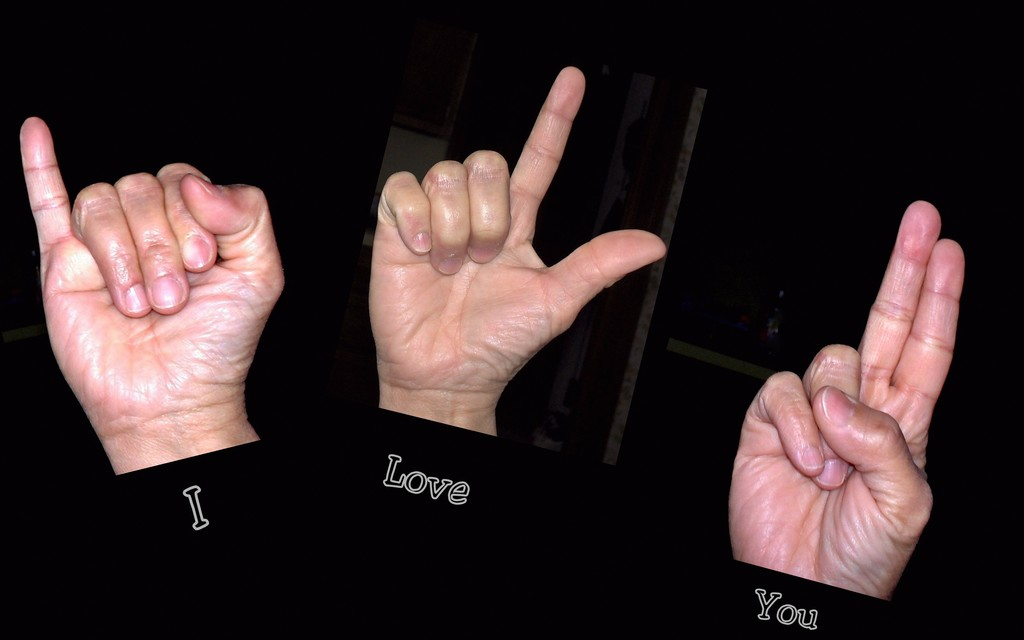Human_hand: (368, 66, 667, 402), (728, 199, 965, 602), (19, 116, 285, 443)
